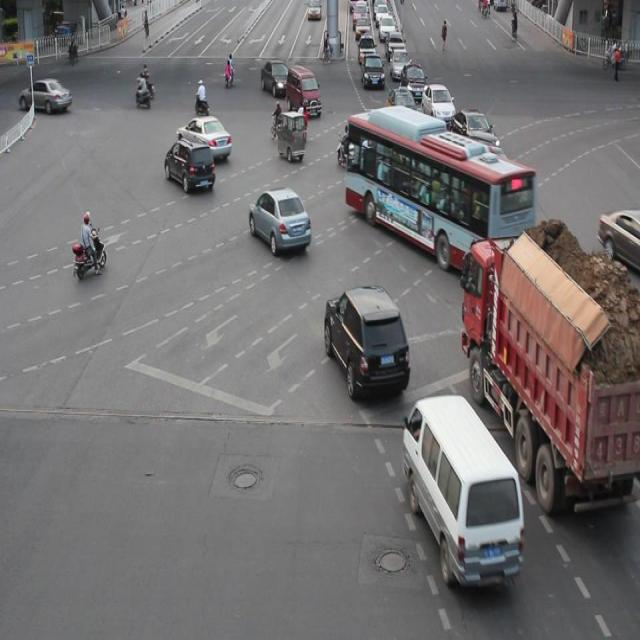bus: (461, 239, 640, 503)
car: (323, 282, 409, 398), (249, 186, 311, 254), (474, 155, 534, 224), (164, 135, 215, 193), (597, 207, 640, 275), (368, 116, 418, 167), (177, 114, 231, 160), (448, 105, 496, 156)
truck: (401, 394, 522, 586)
van: (343, 110, 535, 278)
